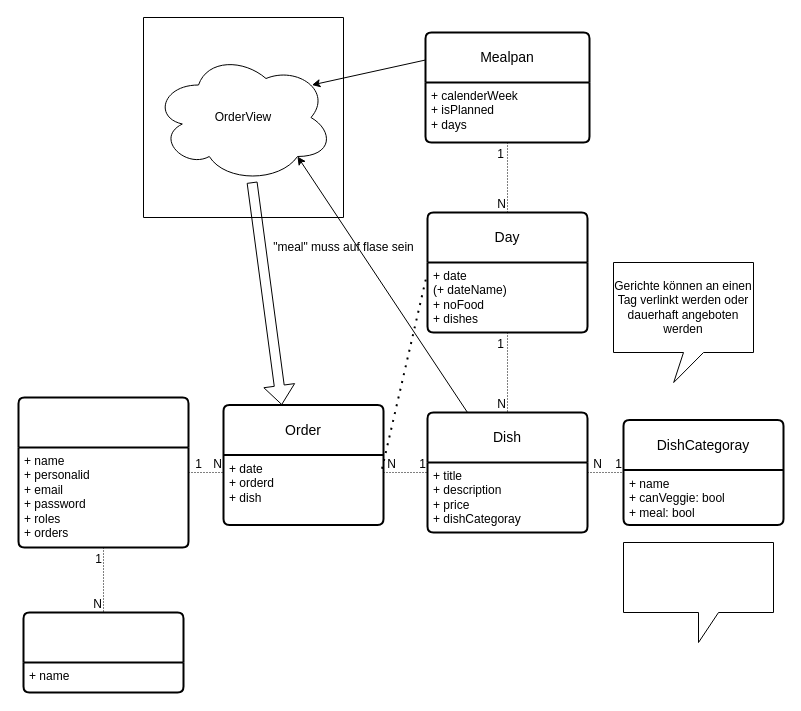
Some shapes in this 801 by 711 pixel diagram are drawn without their labels. Each missing label, with the box of its shape:
"meal" ist gesetzt wenn das Gericht einem Tag zugeordnet werden muss: (622, 542, 774, 642)
ApplicationUser: (17, 396, 189, 548)
Frontend: (142, 16, 344, 218)
Role: (22, 611, 184, 693)
